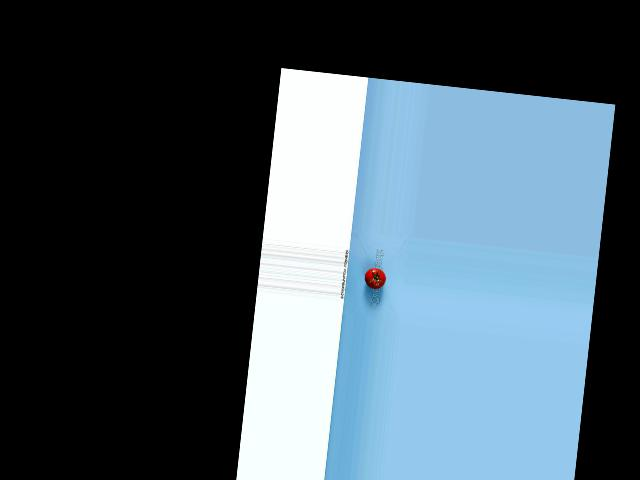tomato: (362, 267, 386, 289)
